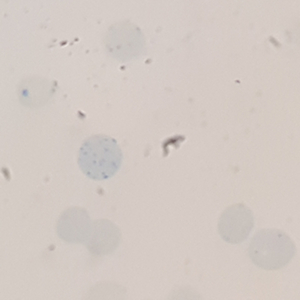erythrocyte: (103, 19, 149, 64), (54, 205, 96, 247), (14, 74, 61, 110), (86, 216, 124, 257)
punctate reticulocyte: (75, 132, 124, 183), (247, 225, 298, 273), (215, 200, 256, 246)
